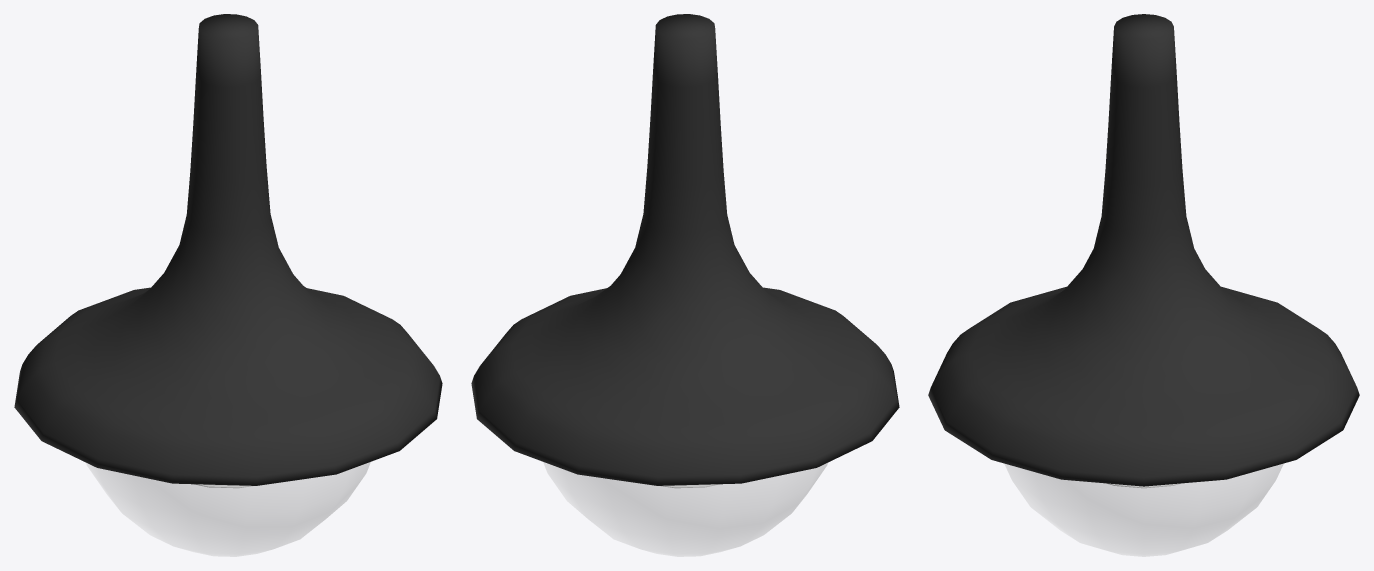
File: Grosse_Glocke.glb
The picture shows the model from 3 angles, left to right: view 1: azimuth 30°, elevation 25°; view 2: azimuth 150°, elevation 25°; view 3: azimuth 270°, elevation 25°; orthographic projection.
Parts seen in each view (by area): view 1: Große Glocke LED 16 Segmente, Große Glocke LED 16 Segmente Glas; view 2: Große Glocke LED 16 Segmente, Große Glocke LED 16 Segmente Glas; view 3: Große Glocke LED 16 Segmente, Große Glocke LED 16 Segmente Glas.
Part boxes in pixels (bbox=[...]): Große Glocke LED 16 Segmente: bbox=[14, 14, 442, 485]; Große Glocke LED 16 Segmente Glas: bbox=[86, 462, 370, 556]; Große Glocke LED 16 Segmente: bbox=[471, 14, 899, 485]; Große Glocke LED 16 Segmente Glas: bbox=[543, 462, 827, 556]; Große Glocke LED 16 Segmente: bbox=[928, 14, 1359, 486]; Große Glocke LED 16 Segmente Glas: bbox=[1004, 464, 1283, 556].
Bounding box in the file's own units: 0.5304 × 0.6995 × 0.5304.
4 materials, 3 textured.
